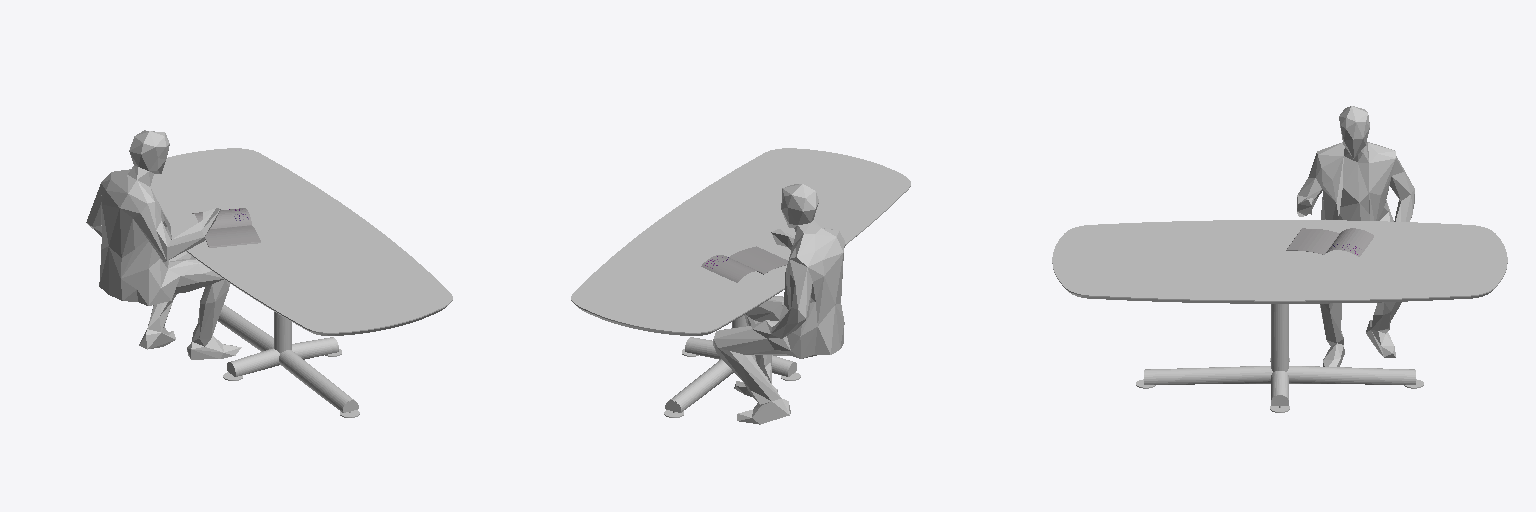
3 views of the same model, side by side, from view 1: azimuth 30°, elevation 25°; view 2: azimuth 150°, elevation 25°; view 3: azimuth 270°, elevation 25° (orthographic).
Visible parts, largest first — view 1: object 2, object 3, object 4, Broers_Design_Nederland; view 2: object 2, object 3, object 4, Broers_Design_Nederland; view 3: object 2, object 3, object 4, Broers_Design_Nederland.
Boxes of the visible parts, x1=… form: object 2: x1=150, y1=148, x2=452, y2=335; object 3: x1=86, y1=130, x2=241, y2=359; object 4: x1=218, y1=305, x2=359, y2=417; Broers_Design_Nederland: x1=192, y1=208, x2=260, y2=247; object 2: x1=571, y1=148, x2=910, y2=335; object 3: x1=713, y1=184, x2=844, y2=424; object 4: x1=664, y1=315, x2=800, y2=417; Broers_Design_Nederland: x1=701, y1=246, x2=787, y2=282; object 2: x1=1052, y1=220, x2=1507, y2=303; object 3: x1=1297, y1=106, x2=1414, y2=366; object 4: x1=1136, y1=304, x2=1423, y2=412; Broers_Design_Nederland: x1=1286, y1=228, x2=1373, y2=256.
Size of the model in its own units: 1.39 by 1.4 by 2.5.
Materials: 4 (1 with a texture image).